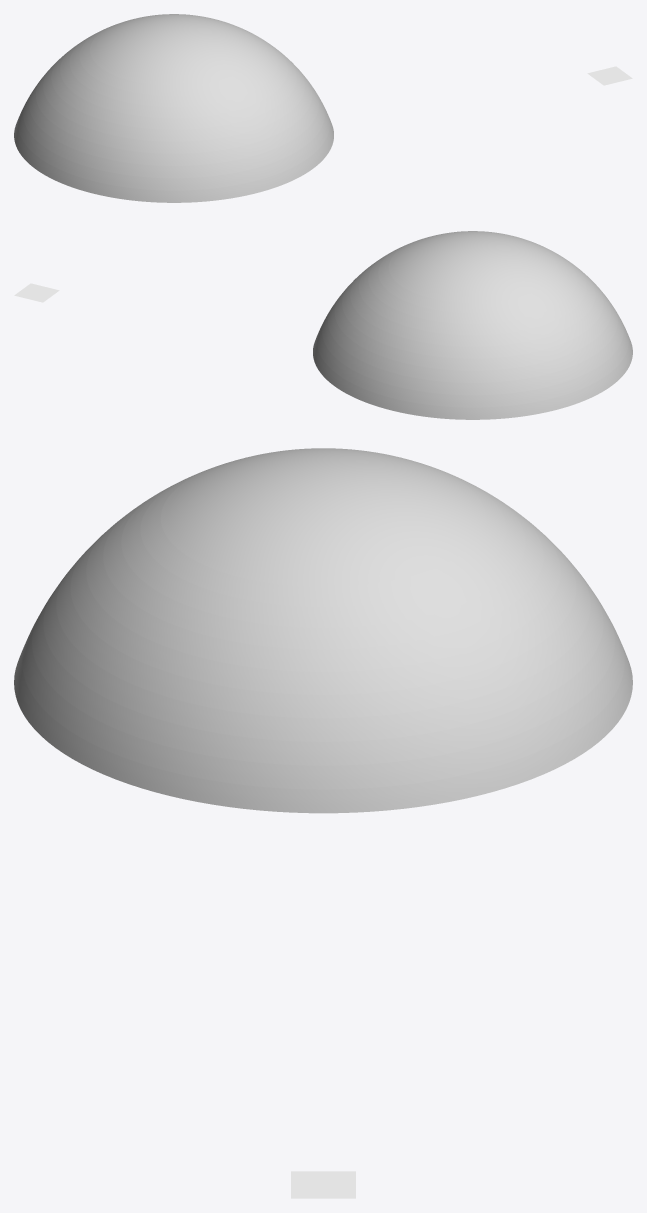
File: honeycomb.fbx
The picture shows the model from 3 angles, top to bottom: view 1: azimuth 30°, elevation 25°; view 2: azimuth 150°, elevation 25°; view 3: azimuth 270°, elevation 25°; orthographic projection. The views are drawn at different scales.
Visible parts, largest first — view 1: shell_1, shell_11, shell_10, shell_9, shell_8, shell_7, shell_6, shell_5, shell_4, shell_3, shell_2, tex_honeycomb; view 2: shell_1, shell_11, shell_10, shell_9, shell_8, shell_7, shell_6, shell_5, shell_4, shell_3, shell_2, tex_honeycomb; view 3: shell_1, shell_11, shell_10, shell_9, shell_8, shell_7, shell_6, shell_5, shell_4, shell_3, shell_2, tex_honeycomb.
Boxes of the visible parts, x1,y1,x2,y2 form: shell_1: (90, 14, 258, 85); shell_11: (14, 116, 333, 202); shell_10: (18, 103, 329, 190); shell_9: (23, 91, 324, 178); shell_8: (29, 79, 318, 165); shell_7: (36, 69, 312, 153); shell_6: (43, 58, 304, 141); shell_5: (51, 49, 296, 129); shell_4: (60, 40, 287, 118); shell_3: (69, 32, 278, 106); shell_2: (79, 24, 268, 96); tex_honeycomb: (587, 66, 632, 85); shell_1: (388, 231, 556, 302); shell_11: (313, 333, 632, 419); shell_10: (317, 320, 628, 407); shell_9: (322, 308, 623, 395); shell_8: (328, 296, 617, 382); shell_7: (334, 286, 610, 370); shell_6: (342, 275, 603, 358); shell_5: (350, 266, 595, 346); shell_4: (359, 257, 586, 335); shell_3: (368, 249, 577, 323); shell_2: (378, 241, 567, 313); tex_honeycomb: (14, 283, 59, 302); shell_1: (160, 448, 486, 586); shell_11: (14, 644, 632, 813); shell_10: (22, 618, 624, 789); shell_9: (32, 595, 614, 765); shell_8: (43, 572, 603, 741); shell_7: (56, 551, 590, 718); shell_6: (70, 532, 576, 694); shell_5: (86, 514, 560, 671); shell_4: (103, 497, 543, 649); shell_3: (121, 482, 525, 627); shell_2: (140, 467, 506, 606); tex_honeycomb: (291, 1171, 355, 1198).
Size of the model in its own units: 405 by 100 by 191.
2 materials, 1 textured.
